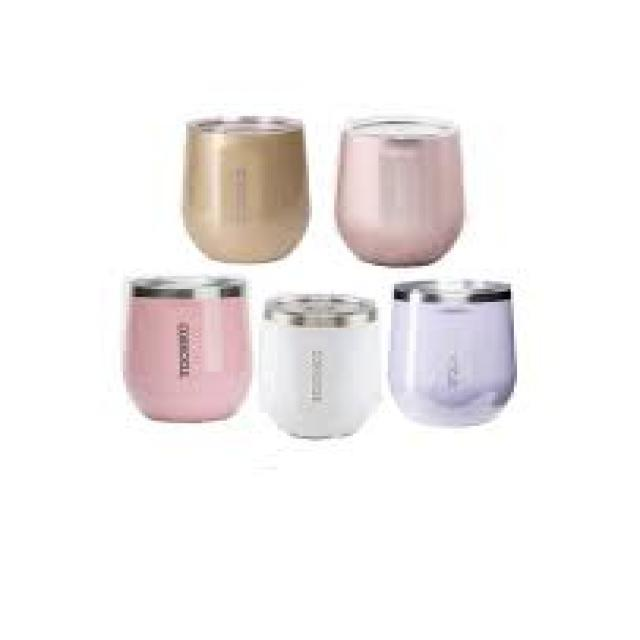bottle: (121, 275, 255, 423), (331, 120, 462, 267), (388, 280, 518, 428), (182, 114, 309, 264), (258, 293, 385, 434)
